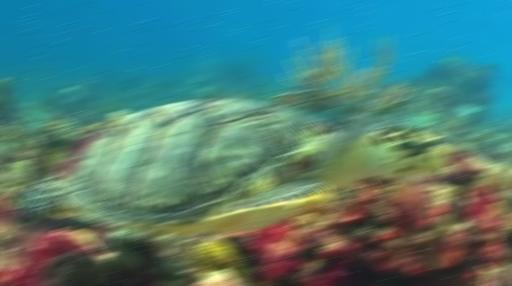Fish: (17, 102, 448, 233)
